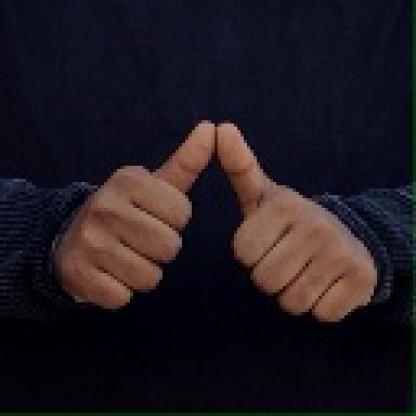A: (56, 112, 382, 318)
